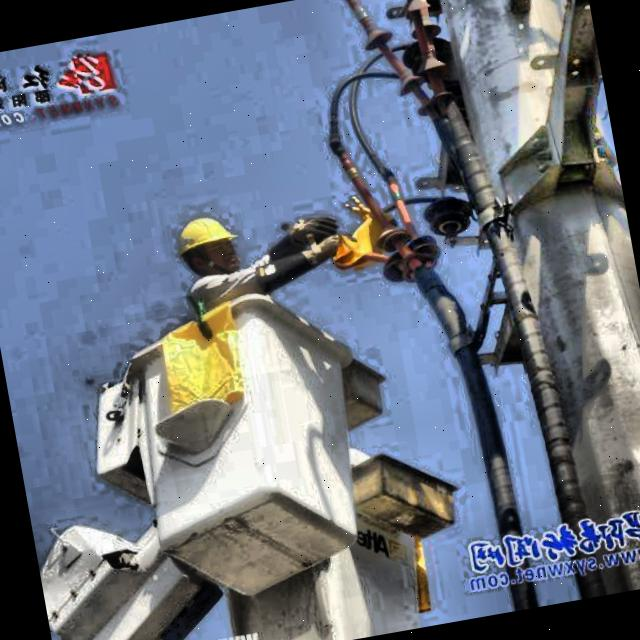helmet: (166, 204, 248, 286)
